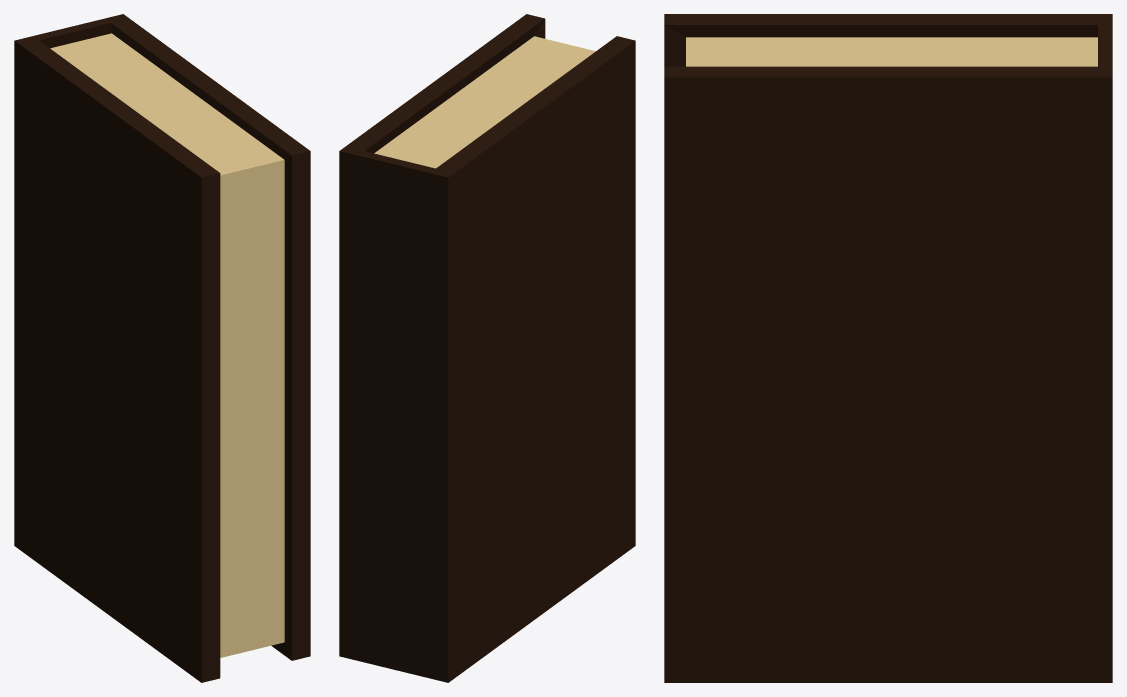
The model's file is Book1_053.fbx.
The picture shows the model from 3 angles, left to right: view 1: azimuth 30°, elevation 25°; view 2: azimuth 150°, elevation 25°; view 3: azimuth 270°, elevation 25°; orthographic projection. The views are drawn at different scales.
Parts seen in each view (by area): view 1: Book1.053; view 2: Book1.053; view 3: Book1.053.
Part boxes in pixels (x1=…): Book1.053: x1=14, y1=14, x2=310, y2=682; Book1.053: x1=339, y1=14, x2=635, y2=682; Book1.053: x1=664, y1=14, x2=1112, y2=682.
Bounding box in the file's own units: 10.24 × 45.39 × 30.47.
